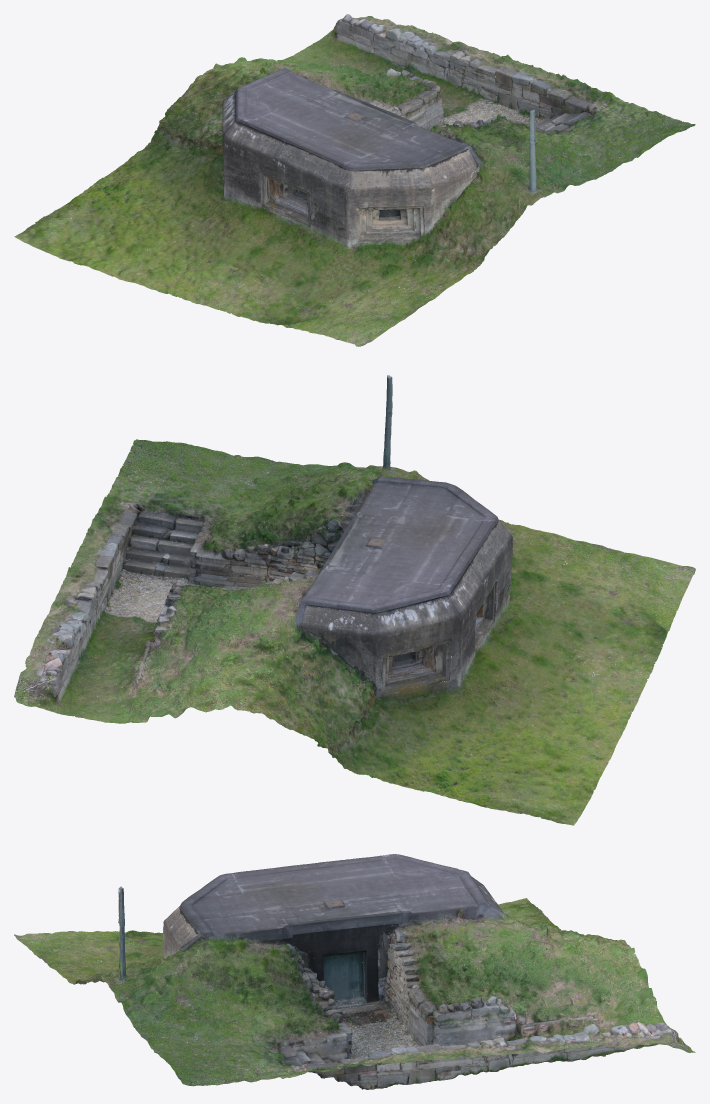
The model's file is sf-bunker-lo36-exterior-32fd5f.glb.
3 views of the same model, one above another, from view 1: azimuth 30°, elevation 25°; view 2: azimuth 150°, elevation 25°; view 3: azimuth 270°, elevation 25° (orthographic). The views are drawn at different scales.
Parts seen in each view (by area): view 1: Model_material3_0, Model_material0_0, Model_material1_0, Model_material2_0; view 2: Model_material1_0, Model_material2_0, Model_material0_0, Model_material3_0; view 3: Model_material2_0, Model_material1_0, Model_material3_0, Model_material0_0.
Part boxes in pixels (x1=…): Model_material3_0: x1=71, y1=26, x2=573, y2=346; Model_material0_0: x1=153, y1=53, x2=661, y2=314; Model_material1_0: x1=104, y1=32, x2=695, y2=305; Model_material2_0: x1=14, y1=14, x2=606, y2=303; Model_material1_0: x1=41, y1=377, x2=640, y2=768; Model_material2_0: x1=14, y1=375, x2=613, y2=825; Model_material0_0: x1=66, y1=465, x2=640, y2=745; Model_material3_0: x1=36, y1=462, x2=695, y2=805; Model_material2_0: x1=119, y1=886, x2=695, y2=1084; Model_material1_0: x1=79, y1=855, x2=580, y2=1089; Model_material3_0: x1=14, y1=865, x2=682, y2=1064; Model_material0_0: x1=48, y1=854, x2=636, y2=1089.
Size of the model in its own units: 11.74 by 3.78 by 11.55.
4 materials, 4 textured.
